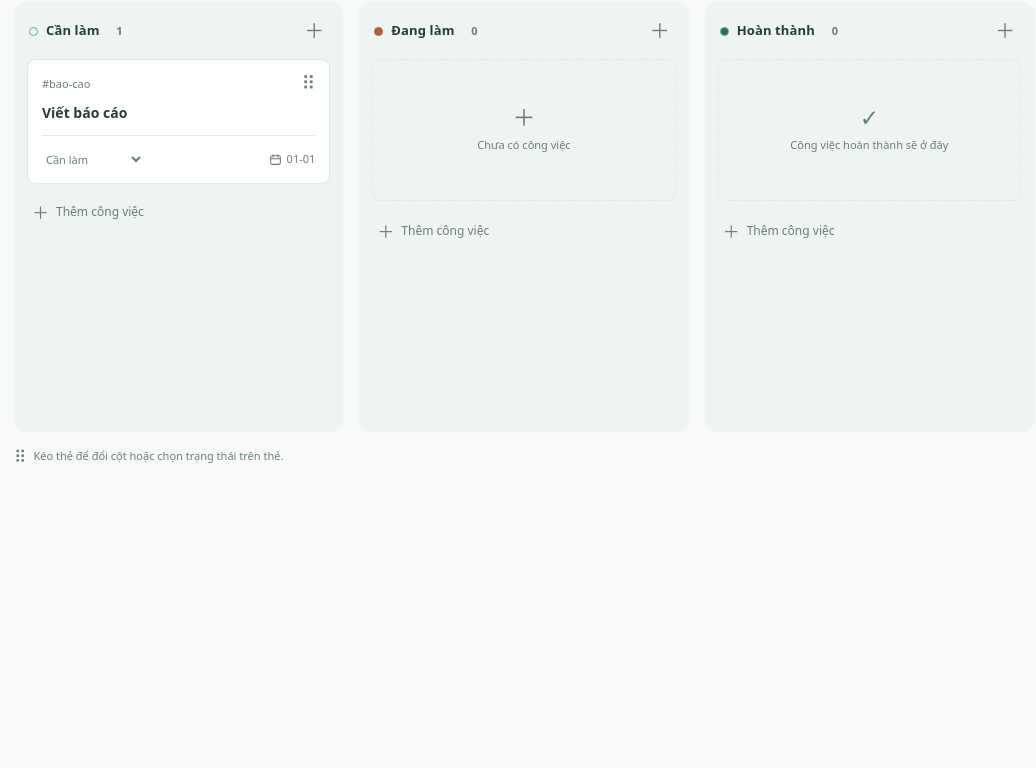
Scenario: TaskBoard › báo lỗi ghi local và giữ công việc tại cột cũ
Select "Hoàn thành" in the dropdown named "Chuyển trạng thái Viết báo cáo" at coordinates (93, 159), box [42, 145, 144, 173]
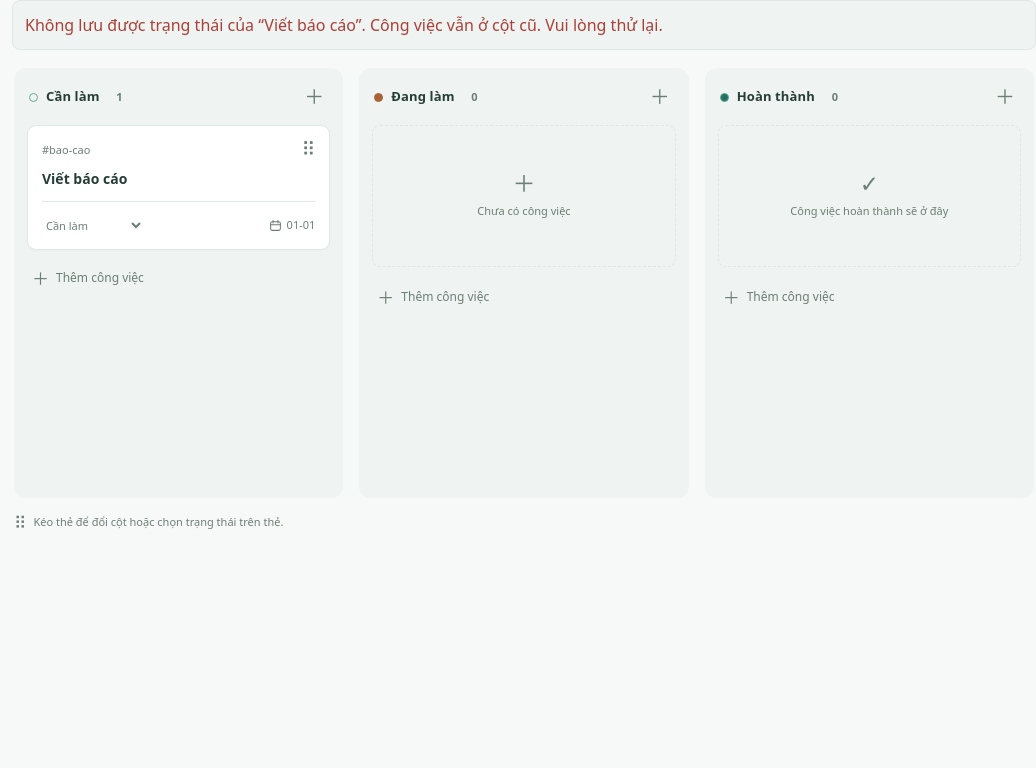
Check: the button "Viết báo cáo" is shown, box [42, 167, 315, 191]
Check: the message is shown, box [12, 0, 1035, 50]
